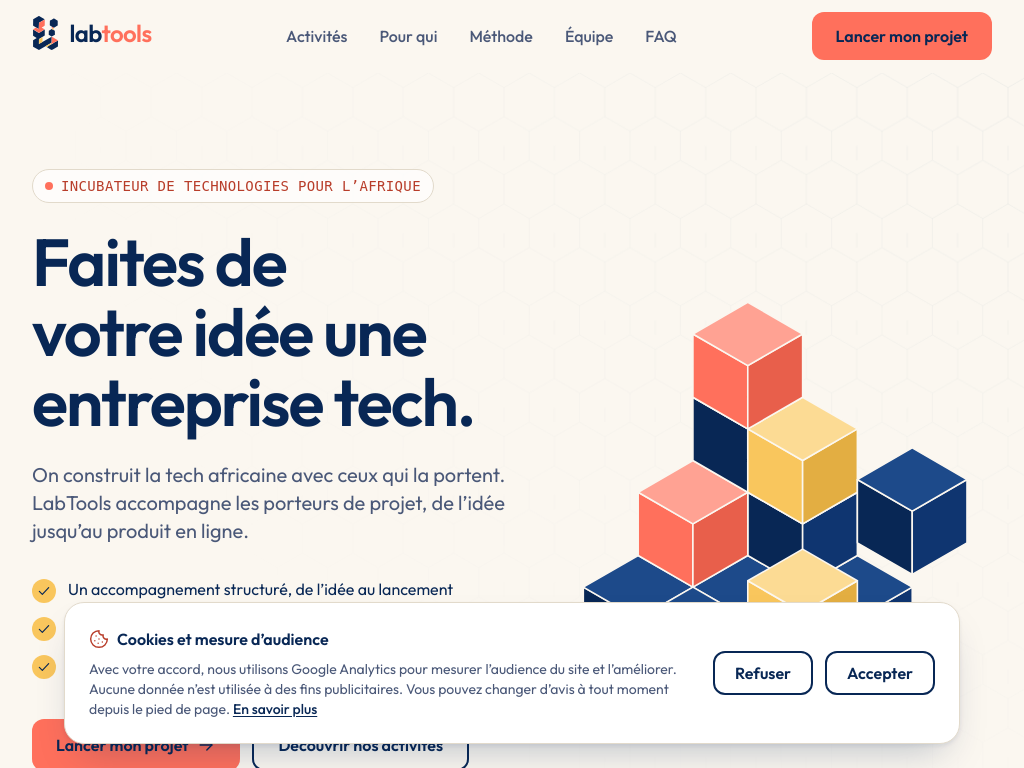
it: bandeau cookies › « Accepter » enregistre le choix et charge Google Analytics avec la page vue
What coordinates should you click on to do the following:
click the button "Accepter"
I would click on:
 (880, 673)
Its box is [825,651,935,695].
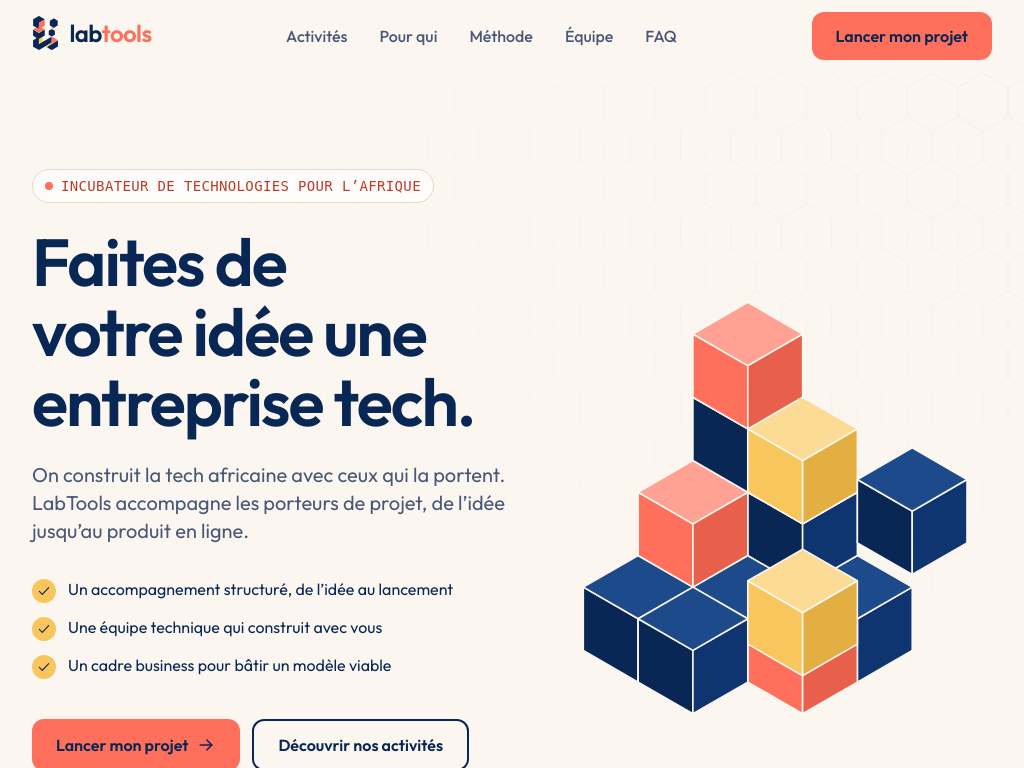
Check: the heading "Cookies et mesure d’audience" is gone
